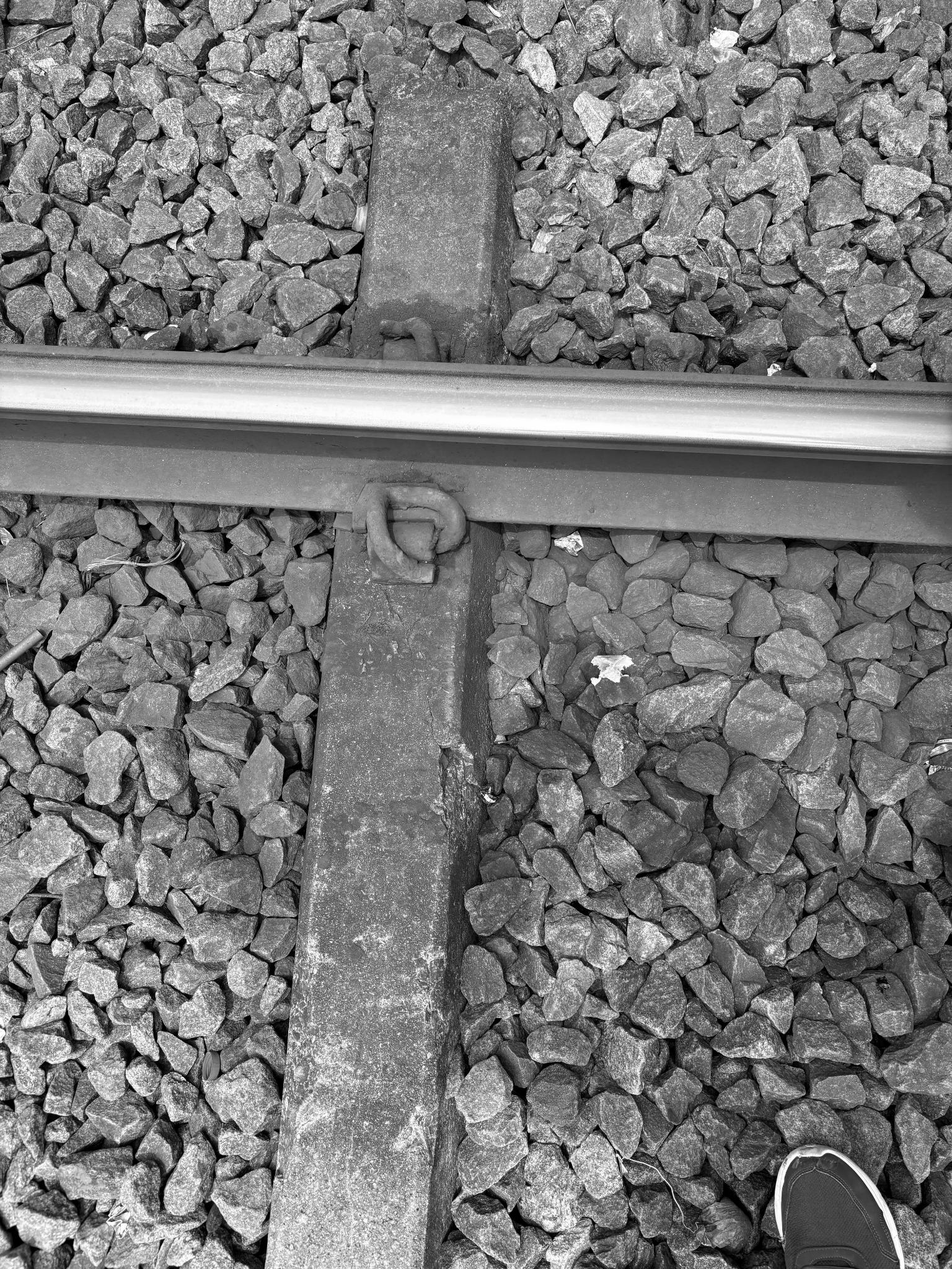cracks under rail seat: (348, 572, 506, 878)
